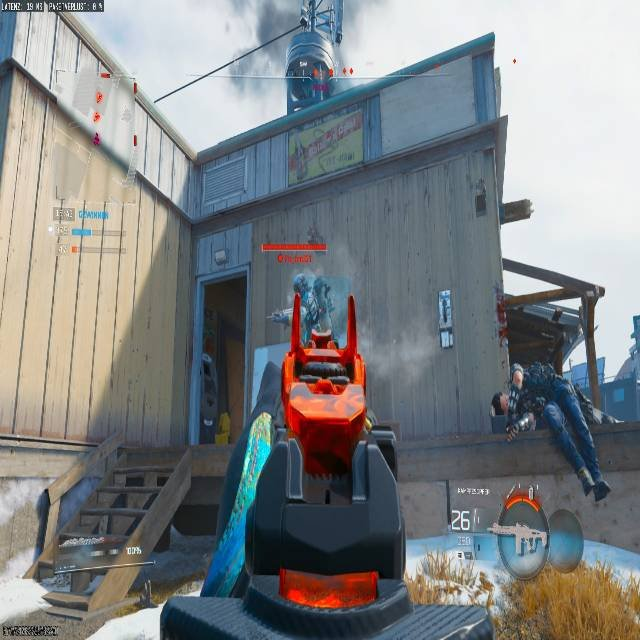head: (294, 273, 304, 282)
player: (494, 357, 612, 508), (289, 272, 332, 337), (292, 272, 307, 308)
